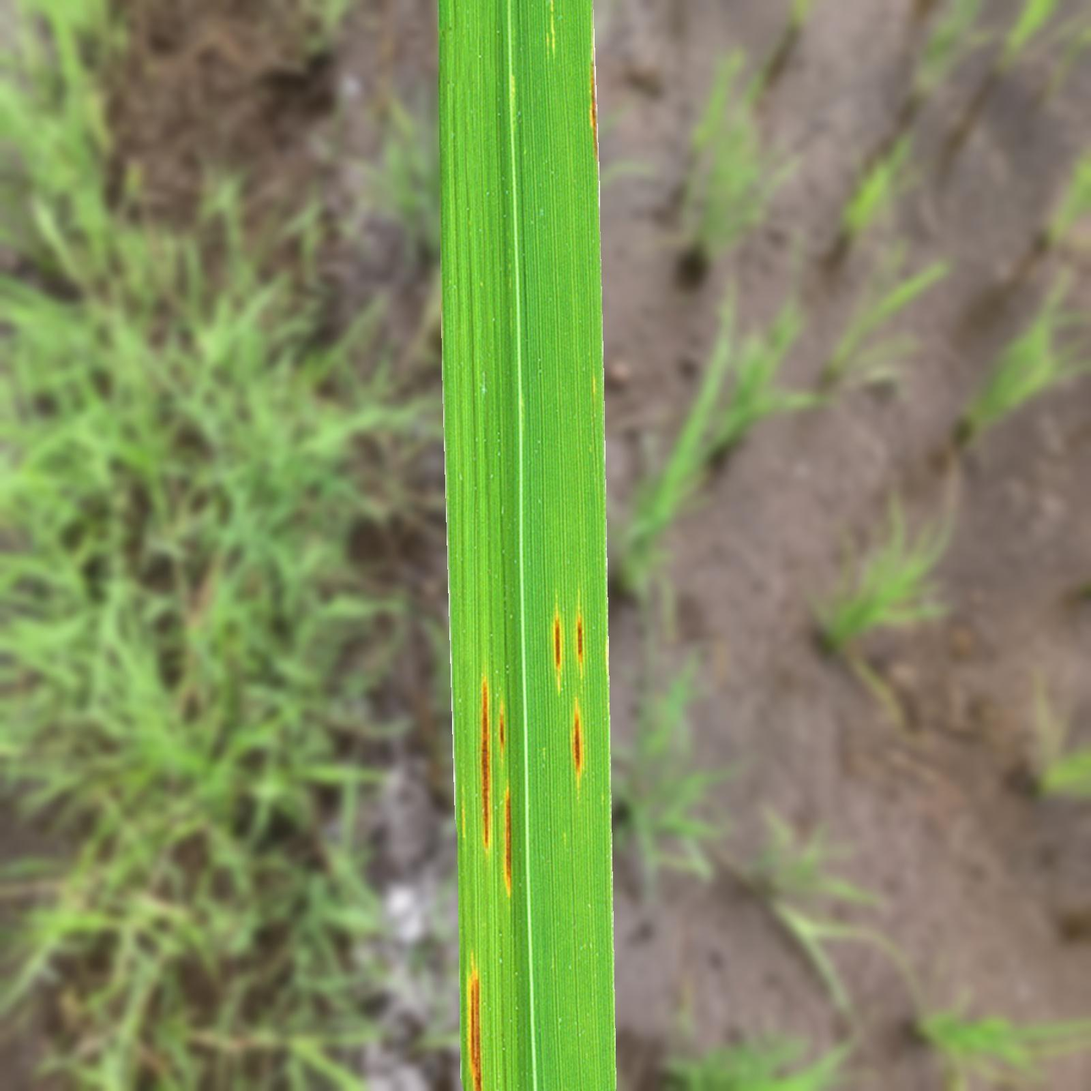LEAF: (438, 0, 616, 1090)
NBS: (465, 949, 481, 1090), (480, 676, 491, 854), (571, 698, 584, 791), (552, 593, 563, 697), (590, 48, 597, 164), (575, 590, 584, 680), (504, 785, 511, 899), (500, 700, 505, 767)
